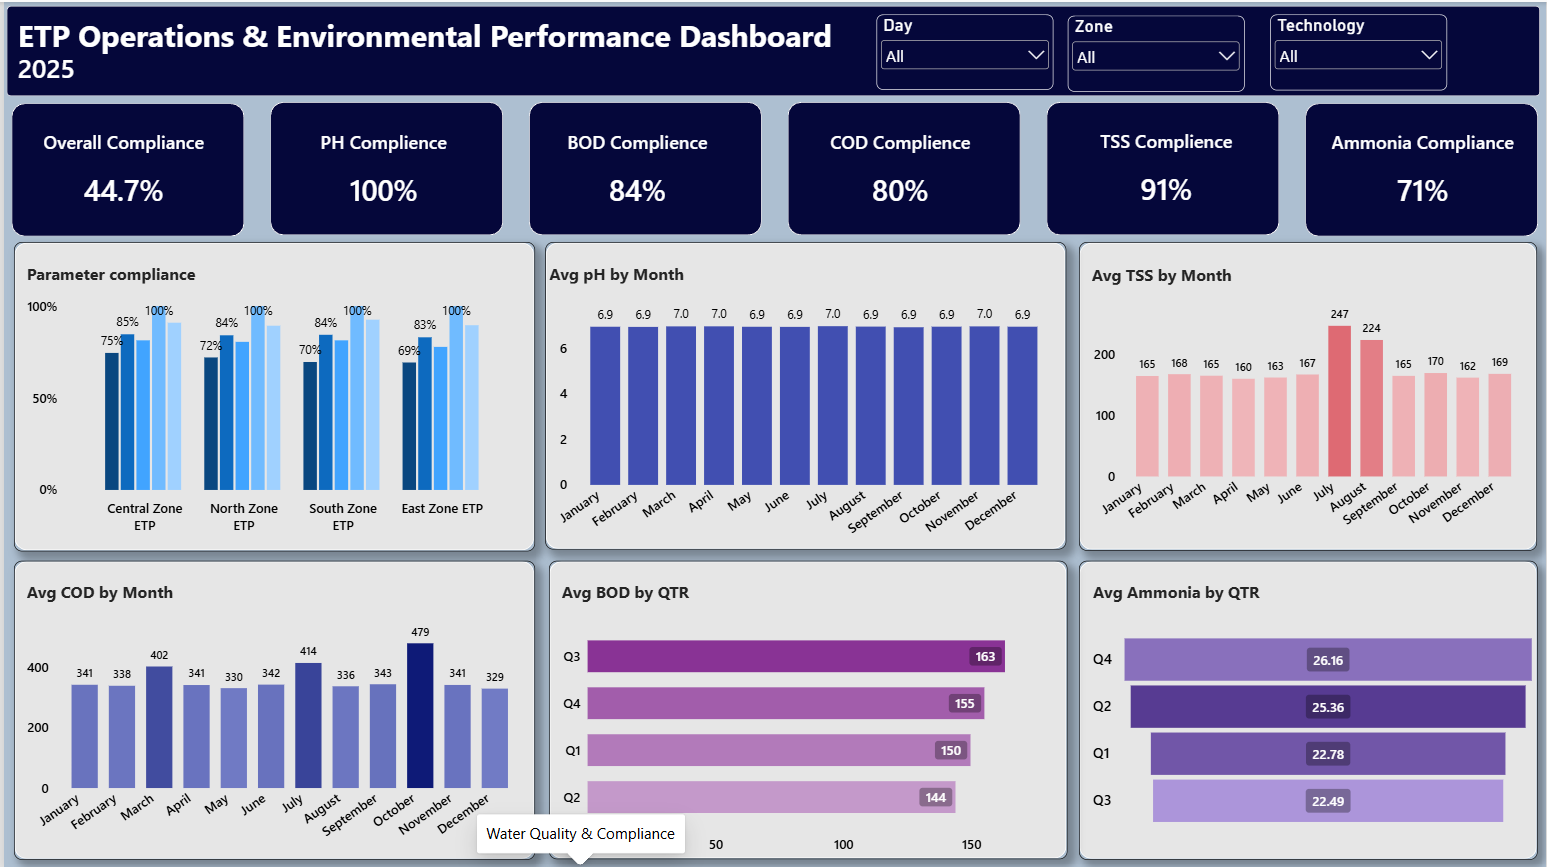

What the dashboard file says about the page in this screenshot:
{"tool":"powerbi","page":{"name":"Water Quality & Compliance","canvas":[1920,1080],"ordinal":2},"visuals":[{"type":"group","id":"g1","title":"Group 3","box":[322.7,123.8,299,165.7],"z":0},{"type":"shape","box":[330.7,123.8,289.5,165.7],"z":0,"group":"g19"},{"type":"shape","box":[8.7,125.1,289.5,165.7],"z":0,"group":"g2"},{"type":"shape","box":[12.6,297.8,647.9,384.4],"z":0,"group":"g3"},{"type":"shape","box":[677.7,694.2,644.4,371.2],"z":0,"group":"g8"},{"type":"shape","box":[12.6,694.9,647.9,371.8],"z":0,"group":"g9"},{"type":"shape","box":[3.6,5.4,1907.1,112.5],"z":1000},{"type":"group","id":"g2","title":"Group 1","box":[8.7,125.1,289.5,165.7],"z":1000,"group":"g12"},{"type":"shape","box":[1337.8,297.8,569.9,383.7],"z":1000,"group":"g16"},{"type":"shape","box":[673.2,298.5,647.9,382.6],"z":1000,"group":"g5"},{"type":"shape","box":[1337.4,694.9,570.3,371.8],"z":1000,"group":"g18"},{"type":"textbox","box":[17.9,16.1,1039.3,62.5],"z":2000},{"type":"shape","box":[652.7,123.8,289.5,165.7],"z":2000,"group":"g13"},{"type":"slicer","fields":{"Values":["ETP_Master.Zone"]},"box":[1323.2,17.9,219.6,94.6],"z":3000},{"type":"shape","box":[974.7,123.8,289.5,165.7],"z":3000,"group":"g14"},{"type":"slicer","fields":{"Values":["ETP_Master.Technology"]},"box":[1575,16.1,219.6,94.6],"z":4000},{"type":"shape","box":[1296.6,123.8,289.5,165.7],"z":4000,"group":"g15"},{"type":"textbox","box":[17.9,60.7,133.9,50],"z":5000},{"type":"shape","box":[1618.6,125.6,289.5,165.7],"z":5000,"group":"g17"},{"type":"group","id":"g3","title":"Group 9","box":[12.6,297.8,647.9,384.4],"z":6000},{"type":"group","id":"g4","title":"Group 11","box":[1337.4,297.8,570.3,384.4],"z":7000},{"type":"slicer","fields":{"Values":["Calendar.Day"]},"box":[1084.7,16.2,220.2,93.9],"z":8000},{"type":"group","id":"g5","title":"Group 10","box":[673.2,298.5,648.2,382.1],"z":8000,"group":"g7"},{"type":"group","id":"g6","title":"Group 14","box":[1337.4,694.9,570.3,371.8],"z":9000},{"type":"group","id":"g7","title":"Group 20","box":[673.2,298.5,648.2,382.1],"z":10000},{"type":"group","id":"g8","title":"Group 13","box":[677.7,694.2,644.4,371.2],"z":10000,"group":"g11"},{"type":"group","id":"g9","title":"Group 12","box":[12.6,694.9,647.9,371.8],"z":10000,"group":"g10"},{"type":"group","id":"g10","title":"Group 22","box":[12.6,694.9,647.9,371.8],"z":11000},{"type":"group","id":"g11","title":"Group 23","box":[677.7,694.2,644.4,371.2],"z":12000},{"type":"clusteredColumnChart","title":"Parameter compliance","fields":{"Y":["Water_Quality.Ammonia Compliance","Water_Quality.BOD Complience","Water_Quality.COD Complience","Water_Quality.PH Complience","Water_Quality.TSS Complience"],"Category":["ETP_Master.ETP_Name"]},"box":[12.3,309.5,647.2,371.1],"z":13000},{"type":"group","id":"g12","title":"Group 2","box":[0,125.1,299,165.7],"z":14000},{"type":"group","id":"g13","title":"Group 4","box":[638.4,123.8,303.8,165.7],"z":15000},{"type":"group","id":"g14","title":"Group 5","box":[974.7,123.8,289.5,165.7],"z":16000},{"type":"lineStackedColumnComboChart","title":"Avg TSS by Month","fields":{"Category":["Calendar.Month"],"Y":["Water_Quality.Avg TSS"]},"box":[1337.4,309.5,569.9,372.7],"z":16002,"group":"g16"},{"type":"lineStackedColumnComboChart","title":"Avg COD by Month","fields":{"Category":["Calendar.Month"],"Y":["Water_Quality.Avg COD"]},"box":[12.4,706,649.5,365.4],"z":17000},{"type":"group","id":"g15","title":"Group 6","box":[1295.9,123.8,299,165.7],"z":18000},{"type":"cardVisual","fields":{"Data":["Water_Quality.BOD Complience"]},"box":[638.4,137.8,299,140.7],"z":18000,"group":"g13"},{"type":"group","id":"g16","title":"Group 21","box":[1337.4,297.8,570.3,384.4],"z":18003,"group":"g4"},{"type":"group","id":"g17","title":"Group 7","box":[1618.6,125.6,289.5,165.7],"z":19000},{"type":"cardVisual","fields":{"Data":["Water_Quality.COD Complience"]},"box":[975,137.8,280.8,141.3],"z":19000,"group":"g14"},{"type":"group","id":"g18","title":"Group 24","box":[1337.4,694.9,570.3,371.8],"z":19002,"group":"g6"},{"type":"cardVisual","fields":{"Data":["Water_Quality.TSS Complience"]},"box":[1295.9,136,299,140.7],"z":20000,"group":"g15"},{"type":"cardVisual","fields":{"Data":["Daily_Operations.Overall Compliance Rate (%)"]},"box":[0,137.8,299,140.7],"z":20000,"group":"g12"},{"type":"columnChart","fields":{"Category":["Calendar.Month"],"Y":["Water_Quality.Avg pH"]},"box":[661.9,308.9,658.4,384.8],"z":20000},{"type":"group","id":"g19","title":"Group 1","box":[330.7,123.8,289.5,165.7],"z":20500,"group":"g1"},{"type":"cardVisual","fields":{"Data":["Water_Quality.PH Complience"]},"box":[322.7,137.8,299,140.7],"z":21000,"group":"g1"},{"type":"cardVisual","fields":{"Data":["Water_Quality.Ammonia Compliance"]},"box":[1622.1,137.8,286,141.3],"z":21000,"group":"g17"},{"type":"clusteredBarChart","title":"Avg BOD by QTR","fields":{"Y":["Water_Quality.Avg BOD"],"Category":["Calendar.Quarter"]},"box":[677.8,706,649.5,374.2],"z":21000},{"type":"funnel","title":"Avg Ammonia by QTR","fields":{"Y":["Water_Quality.Avg Ammonia"],"Category":["Calendar.Quarter"]},"box":[1337.9,706,582.5,356.5],"z":22000}]}

Visuals, with their boxes in screenshot pixels (x1, y1, x2, y2), scaled from the page's 1920x1080 canvas onto the 1547x867 screenshot:
"Group 3" group: 260:99:501:232
shape: 266:99:500:232
shape: 7:100:240:233
shape: 10:239:532:548
shape: 546:557:1065:855
shape: 10:558:532:856
shape: 3:4:1540:95
"Group 1" group: 7:100:240:233
shape: 1078:239:1537:547
shape: 542:240:1064:547
shape: 1078:558:1537:856
textbox: 14:13:852:63
shape: 526:99:759:232
slicer - ETP_Master.Zone: 1066:14:1243:90
shape: 785:99:1019:232
slicer - ETP_Master.Technology: 1269:13:1446:89
shape: 1045:99:1278:232
textbox: 14:49:122:89
shape: 1304:101:1537:234
"Group 9" group: 10:239:532:548
"Group 11" group: 1078:239:1537:548
slicer - Calendar.Day: 874:13:1051:88
"Group 10" group: 542:240:1065:546
"Group 14" group: 1078:558:1537:856
"Group 20" group: 542:240:1065:546
"Group 13" group: 546:557:1065:855
"Group 12" group: 10:558:532:856
"Group 22" group: 10:558:532:856
"Group 23" group: 546:557:1065:855
"Parameter compliance" clusteredColumnChart: 10:248:531:546
"Group 2" group: 0:100:241:233
"Group 4" group: 514:99:759:232
"Group 5" group: 785:99:1019:232
"Avg TSS by Month" lineStackedColumnComboChart: 1078:248:1537:548
"Avg COD by Month" lineStackedColumnComboChart: 10:567:533:860
"Group 6" group: 1044:99:1285:232
cardVisual - Water_Quality.BOD Complience: 514:111:755:224
"Group 21" group: 1078:239:1537:548
"Group 7" group: 1304:101:1537:234
cardVisual - Water_Quality.COD Complience: 786:111:1012:224
"Group 24" group: 1078:558:1537:856
cardVisual - Water_Quality.TSS Complience: 1044:109:1285:222
cardVisual - Daily_Operations.Overall Compliance Rate (%): 0:111:241:224
columnChart - Calendar.Month x Water_Quality.Avg pH: 533:248:1064:557
"Group 1" group: 266:99:500:232
cardVisual - Water_Quality.PH Complience: 260:111:501:224
cardVisual - Water_Quality.Ammonia Compliance: 1307:111:1537:224
"Avg BOD by QTR" clusteredBarChart: 546:567:1069:866
"Avg Ammonia by QTR" funnel: 1078:567:1546:853
